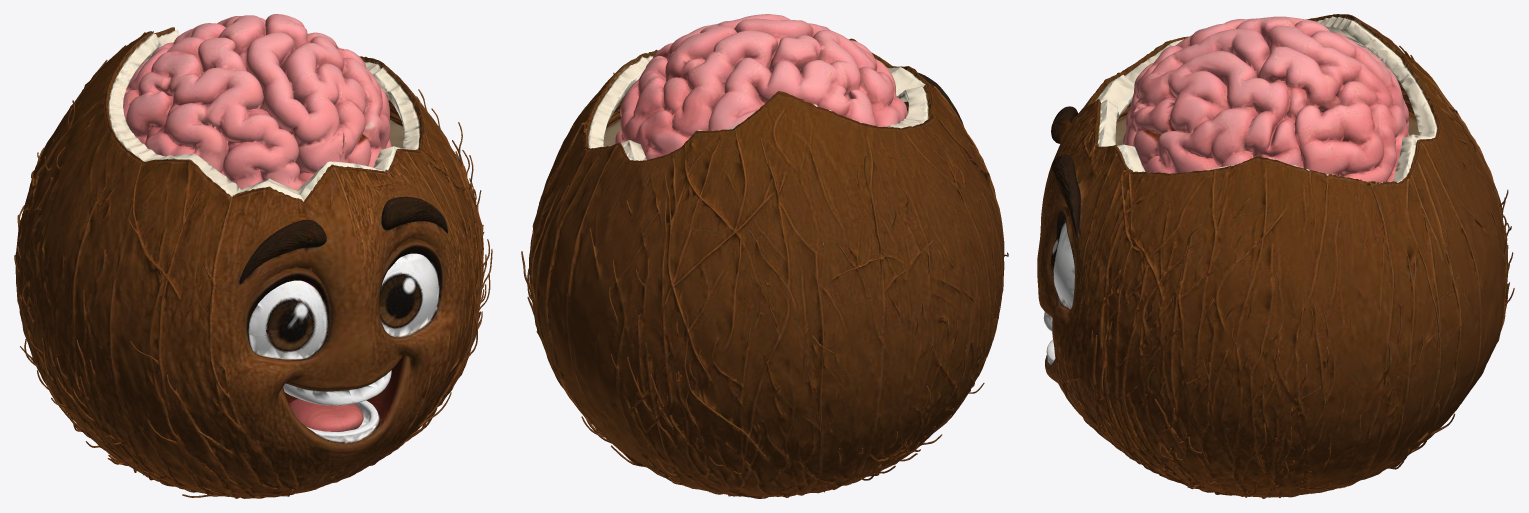
The model's file is part-body.glb.
3 renders of one model, left to right at view 1: azimuth 30°, elevation 25°; view 2: azimuth 150°, elevation 25°; view 3: azimuth 270°, elevation 25°, orthographic.
Visible parts, largest first — view 1: mesh_node; view 2: mesh_node; view 3: mesh_node.
Part boxes in pixels (x1,y1,x2,y2): mesh_node: (14,14,492,498); mesh_node: (521,14,1008,498); mesh_node: (1037,14,1514,498).
Size of the model in its own units: 1.87 by 1.9 by 1.83.
Materials: 1 (1 with a texture image).
